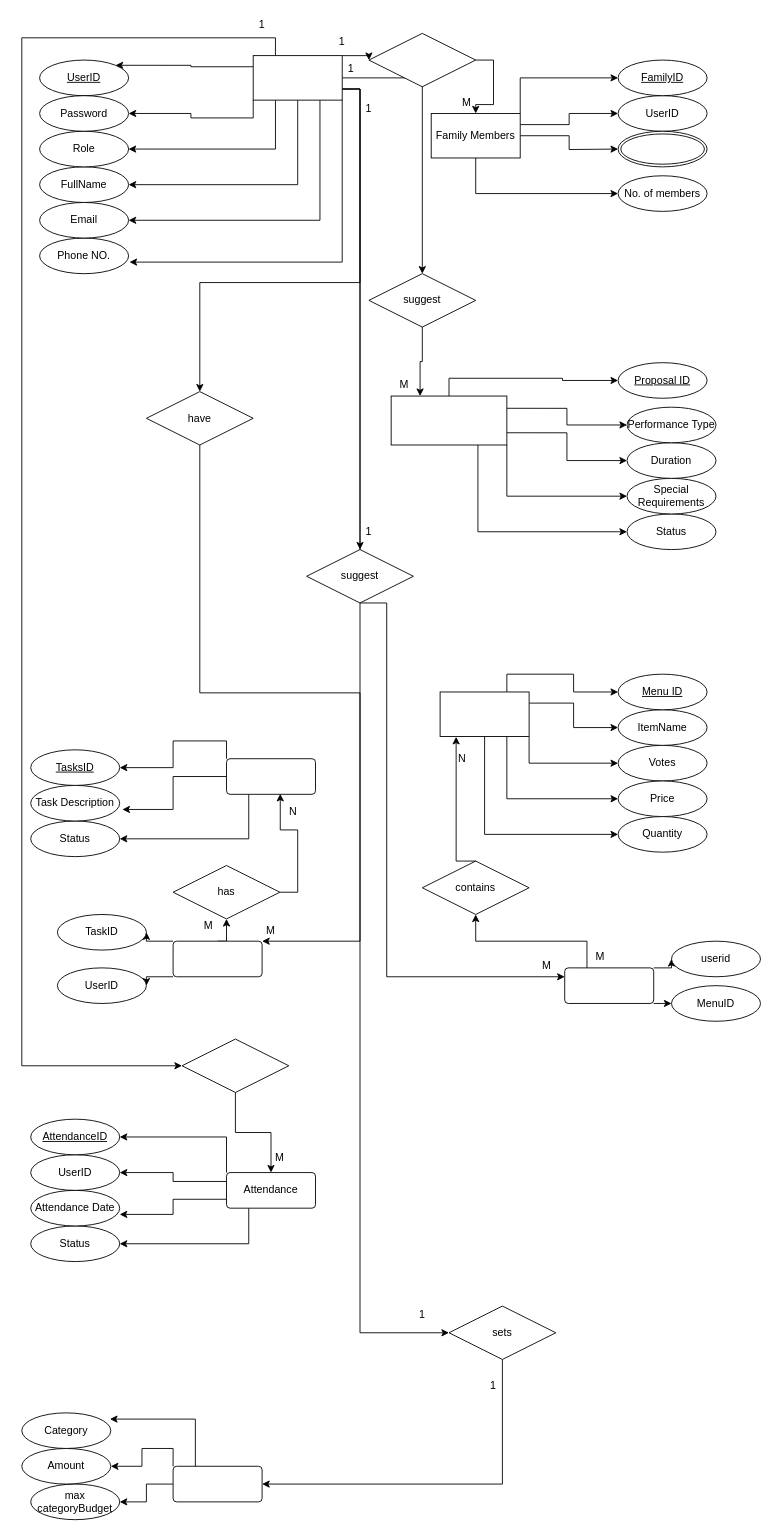
The diagram is 776 pixels wide and 1535 high, and some of its shapes have lost their labels. Here are the shapes that lost their labels. From the top down, the centre of each, then its label:
At [297,77]: "USER".
At [422,59]: "Register".
At [662,148]: "Names".
At [448,420]: "PerformanceProposals".
At [484,713]: "Menu Items".
At [271,776]: "Tasks".
At [217,958]: "Task Progress".
At [609,985]: "Menu_suggest".
At [235,1065]: "takes".
At [217,1483]: "Budget".
